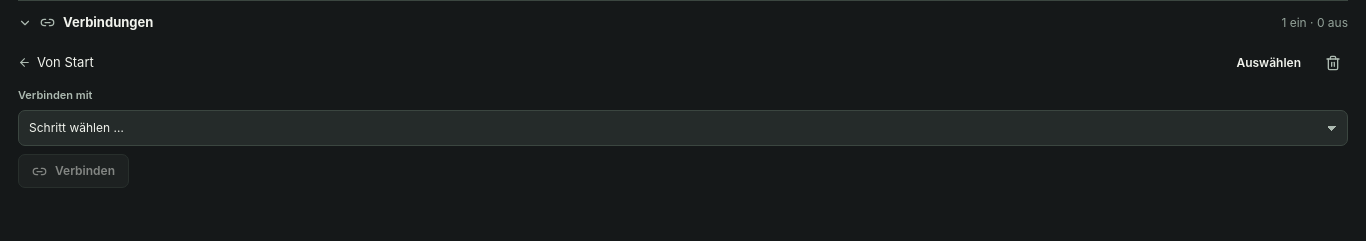
Test case: NodeConnections (keyboard connect) › lists only valid targets and connects through the store
Expected: the button "Verbinden" is disabled, [18, 154, 129, 188]
Select "Critic (Agent)" in the dropdown labelled "Verbinden mit" at coordinates (683, 128), box [18, 110, 1348, 146]
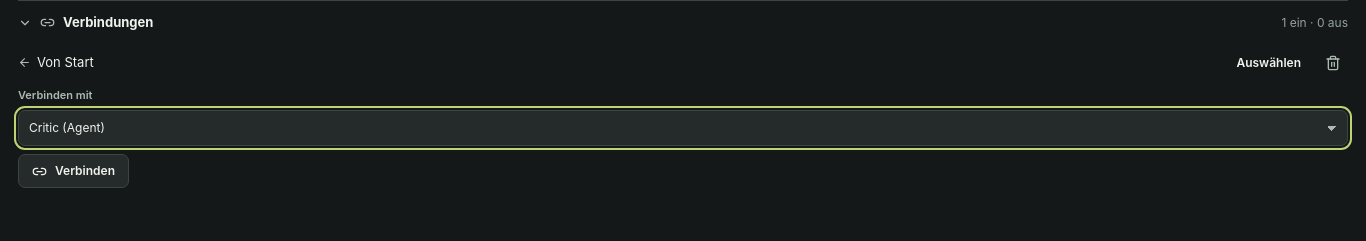
Click the button "Verbinden".
click(74, 171)  # box [18, 154, 129, 188]
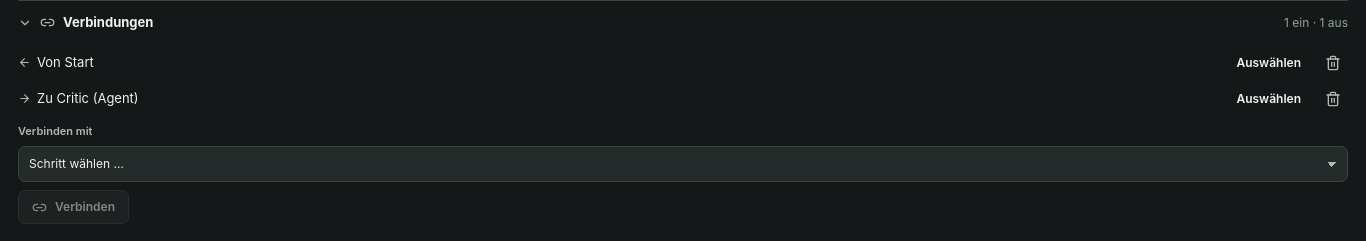
Result: the text "Zu Critic (Agent)" is shown at [37, 90, 139, 106]
